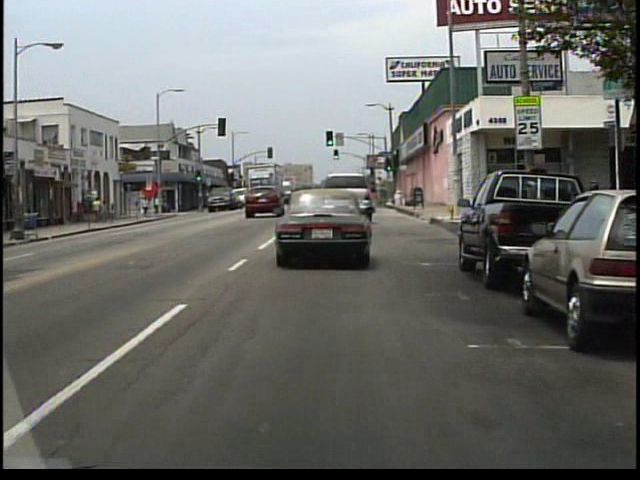person: (94, 197, 104, 223), (102, 199, 110, 223), (142, 197, 151, 217)
